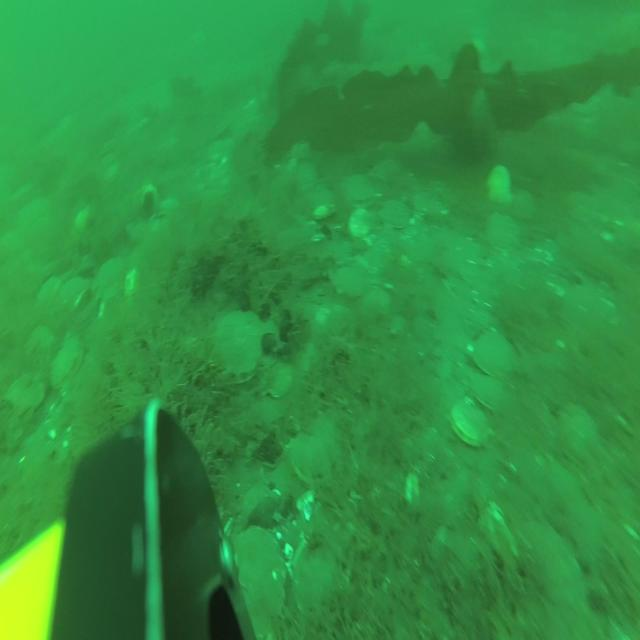scallop: (512, 518, 590, 640), (234, 532, 288, 633), (214, 307, 270, 388), (289, 431, 335, 493), (473, 324, 516, 377), (562, 401, 598, 462), (453, 397, 489, 455), (50, 336, 86, 394), (6, 374, 42, 430), (467, 368, 506, 416), (332, 260, 368, 306), (490, 210, 520, 258), (488, 162, 516, 212), (302, 184, 334, 220), (382, 193, 411, 231), (344, 170, 371, 210), (268, 363, 294, 403), (347, 203, 370, 244), (514, 188, 536, 224), (294, 162, 318, 194)
